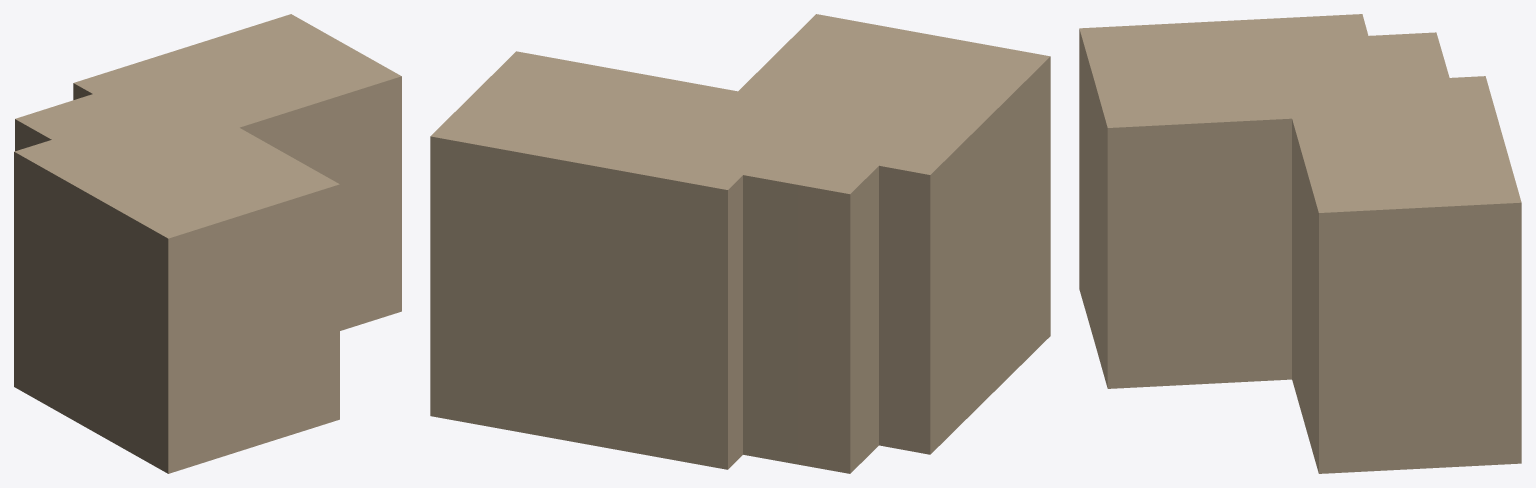
Rendered from bld_393483717.dae.
3 views of the same model, side by side, from view 1: azimuth 30°, elevation 25°; view 2: azimuth 150°, elevation 25°; view 3: azimuth 270°, elevation 25° (orthographic). The views are drawn at different scales.
Visible parts, largest first — view 1: bld_393483717; view 2: bld_393483717; view 3: bld_393483717.
Part boxes in pixels (left/top/right/bottom): bld_393483717: left=14, top=14, right=401, bottom=473; bld_393483717: left=430, top=14, right=1050, bottom=473; bld_393483717: left=1079, top=14, right=1521, bottom=473.
Size of the model in its own units: 13.09 by 12.29 by 8.
